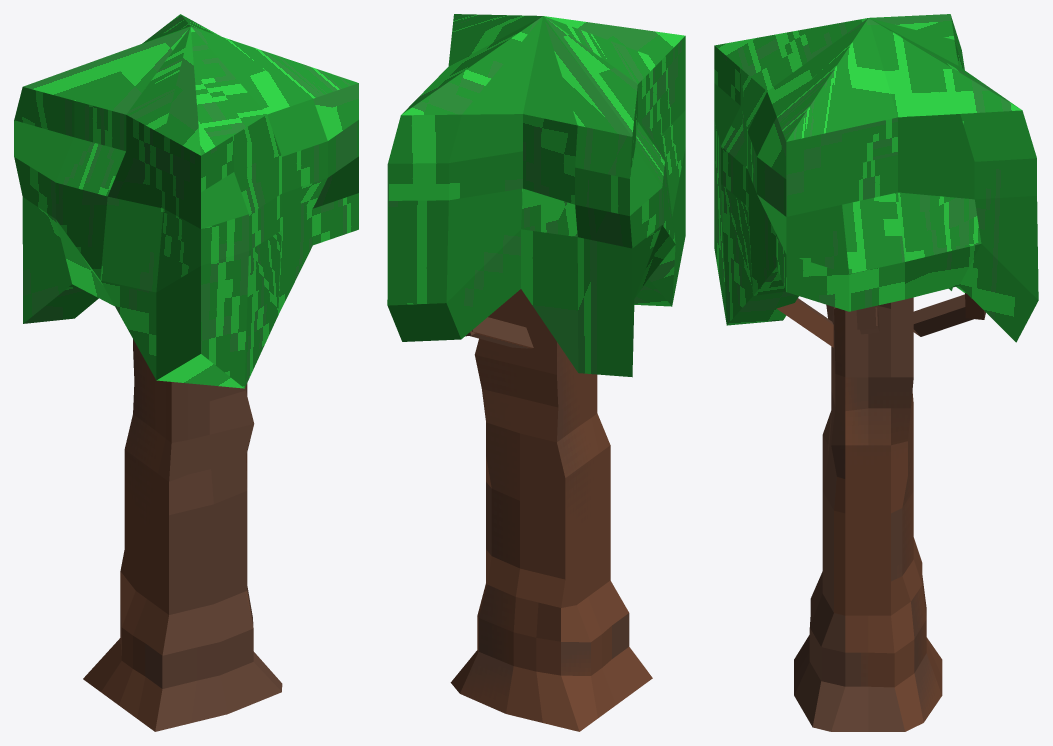
Rendered from BEES Model Tree V2-1 small gltf.gltf.
The picture shows the model from 3 angles, left to right: view 1: azimuth 30°, elevation 25°; view 2: azimuth 150°, elevation 25°; view 3: azimuth 270°, elevation 25°; orthographic projection. The views are drawn at different scales.
Visible parts, largest first — view 1: leaves, trunk; view 2: leaves, trunk, cuboid; view 3: leaves, trunk, cuboid (×2).
Boxes of the visible parts, <box> form: leaves: <box>14,14,358,388</box>; trunk: <box>83,339,282,731</box>; leaves: <box>387,14,685,377</box>; trunk: <box>450,289,652,731</box>; cuboid: <box>470,317,533,348</box>; leaves: <box>714,14,1038,342</box>; trunk: <box>794,297,942,731</box>; cuboid (×2): <box>776,294,973,347</box>.
Size of the model in its own units: 4.07 by 9.94 by 4.31.
Materials: 1 (1 with a texture image).
